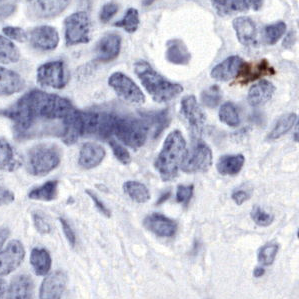Lymphocyte: (232, 59, 278, 84)
